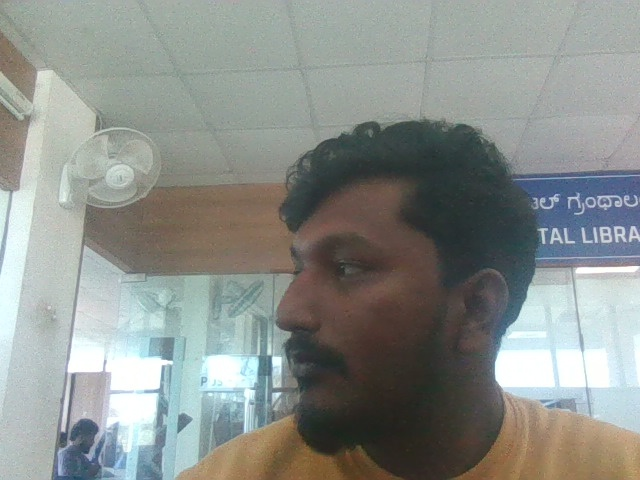real: (253, 103, 490, 439)
